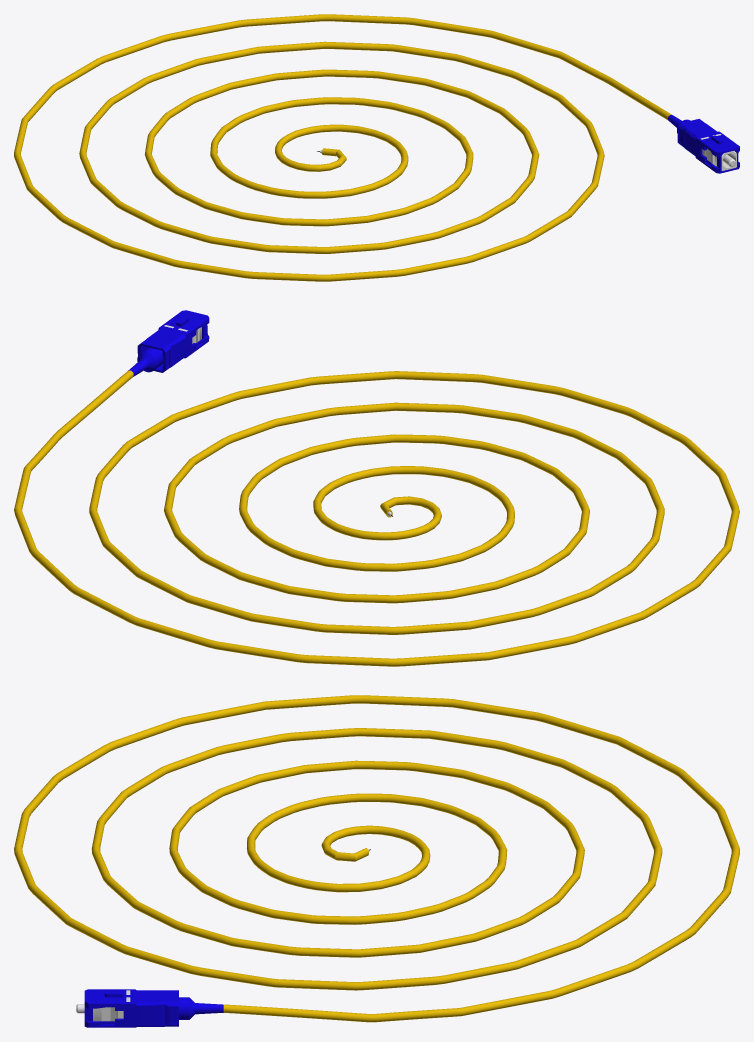
Rendered from Pig Tail.fbx.
The picture shows the model from 3 angles, top to bottom: view 1: azimuth 30°, elevation 25°; view 2: azimuth 150°, elevation 25°; view 3: azimuth 270°, elevation 25°; orthographic projection. The views are drawn at different scales.
Parts seen in each view (by area): view 1: PigTail; view 2: PigTail; view 3: PigTail.
Part boxes in pixels (x1,y1,x2,y2): PigTail: (14,14,739,281); PigTail: (14,310,739,666); PigTail: (14,695,739,1027).
Bounding box in the file's own units: 9.97 × 0.4111 × 9.34.
